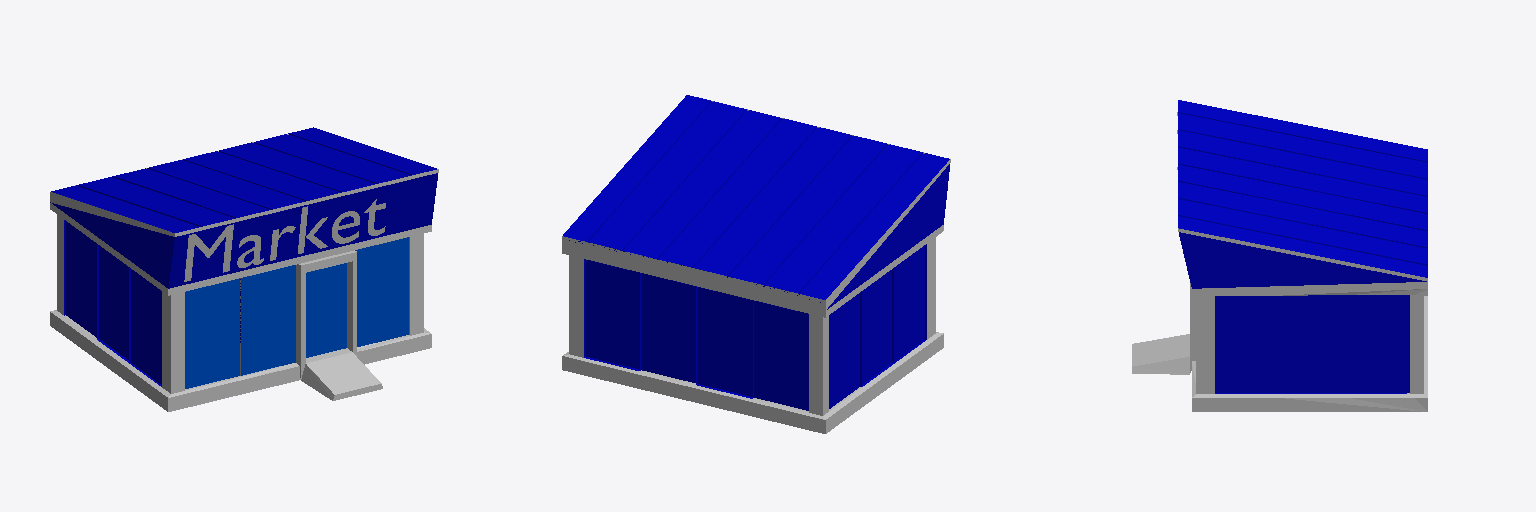
Rendered from market.obj.
The picture shows the model from 3 angles: view 1: azimuth 30°, elevation 25°; view 2: azimuth 150°, elevation 25°; view 3: azimuth 270°, elevation 25°; orthographic projection.
Visible parts, largest first — view 1: Shop_Malla.003_Shop_Malla.008, Texto_Texto.001; view 2: Shop_Malla.003_Shop_Malla.008; view 3: Shop_Malla.003_Shop_Malla.008.
Boxes of the visible parts, box(x1,y1,x2,y2) form: Shop_Malla.003_Shop_Malla.008: box(50, 127, 438, 411); Texto_Texto.001: box(184, 199, 385, 281); Shop_Malla.003_Shop_Malla.008: box(562, 95, 950, 433); Shop_Malla.003_Shop_Malla.008: box(1132, 100, 1427, 411).
Bounding box in the file's own units: 1.26 × 0.8388 × 1.23.